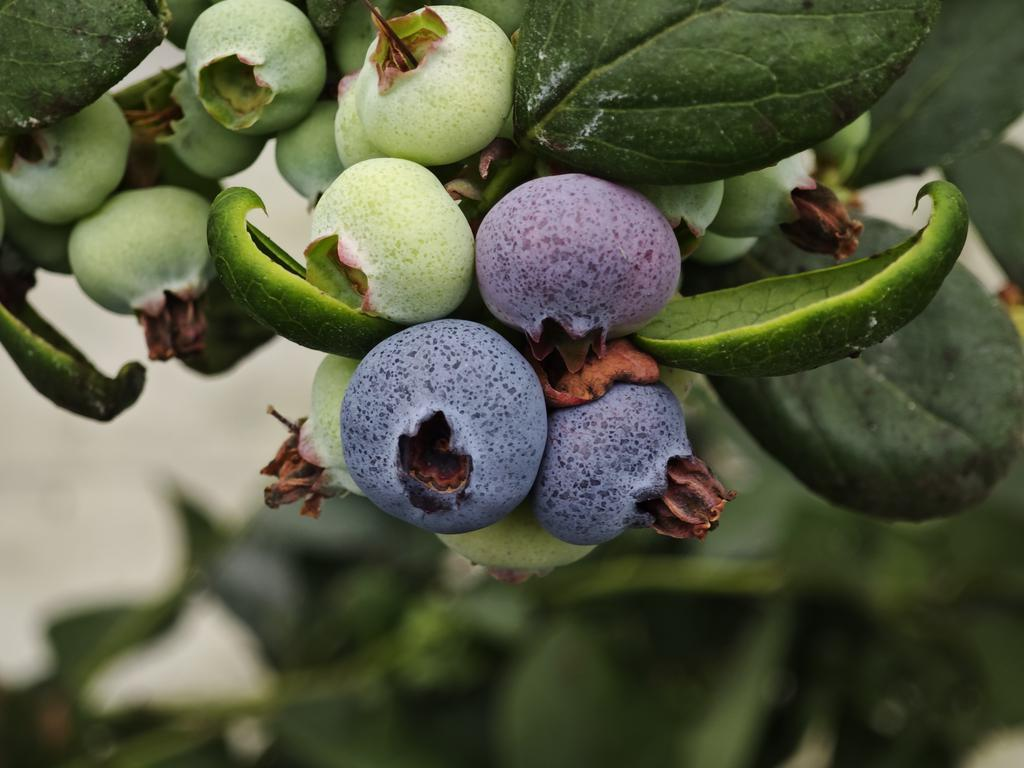RipeBlueBerry: (335, 318, 552, 538), (542, 374, 729, 549)
Semi-RipeBlueBerry: (474, 169, 685, 349)
UnripeBlueBerry: (304, 153, 478, 325)
